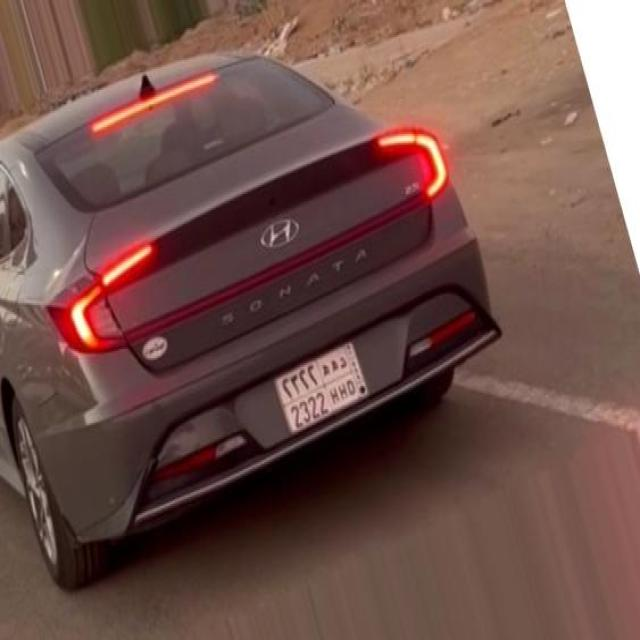Car-plate: (268, 336, 376, 444)
